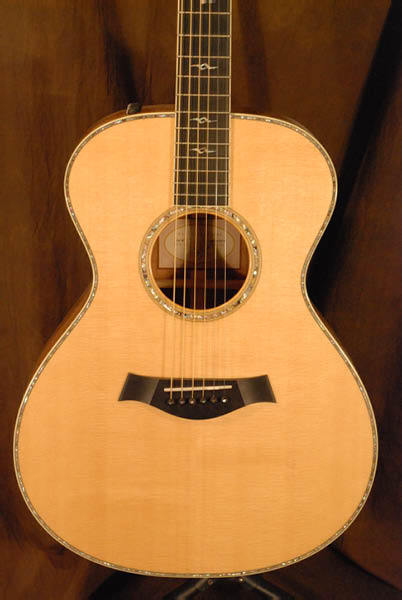guitar: (12, 1, 378, 581)
